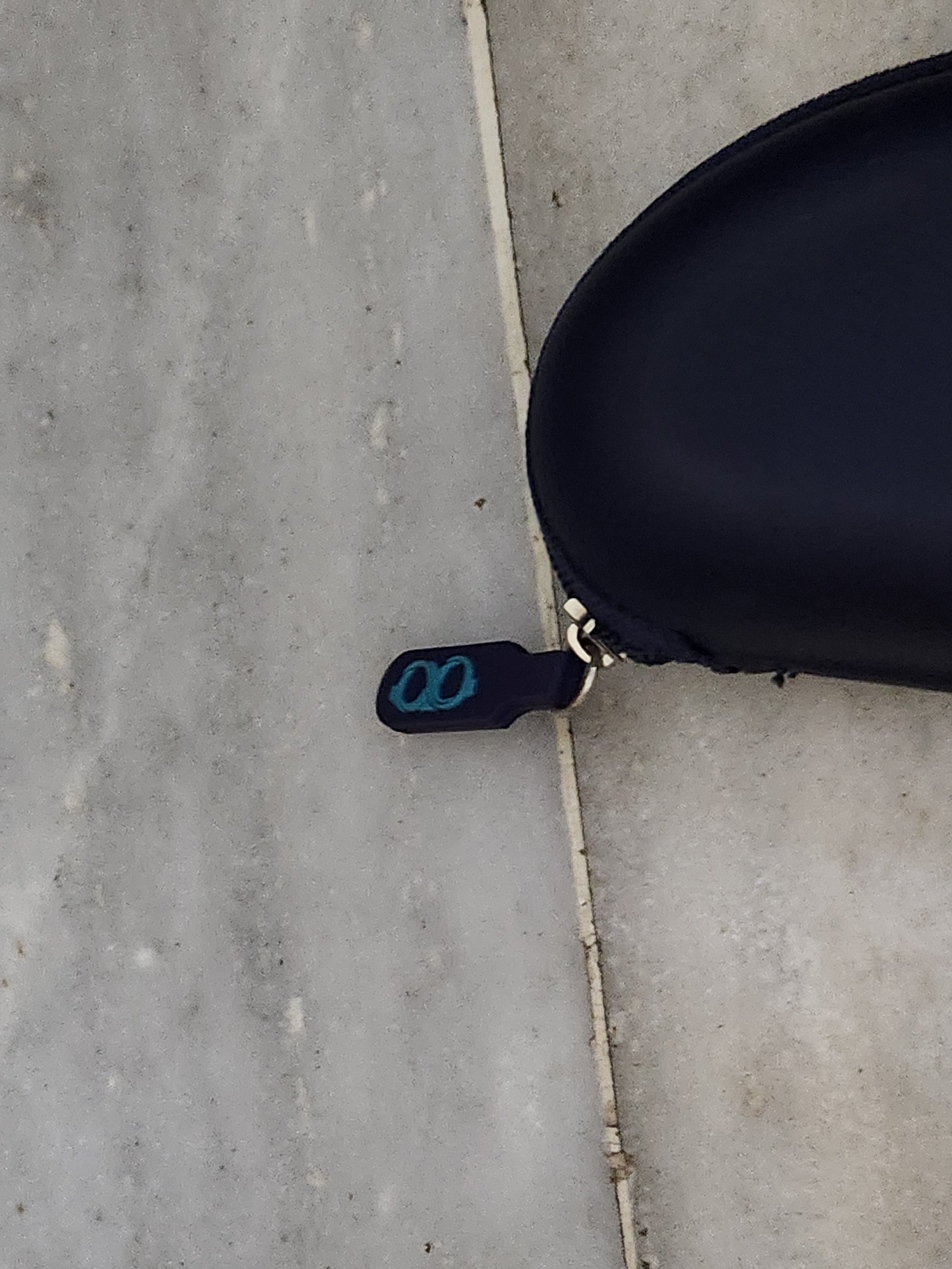case: (374, 48, 952, 749)
